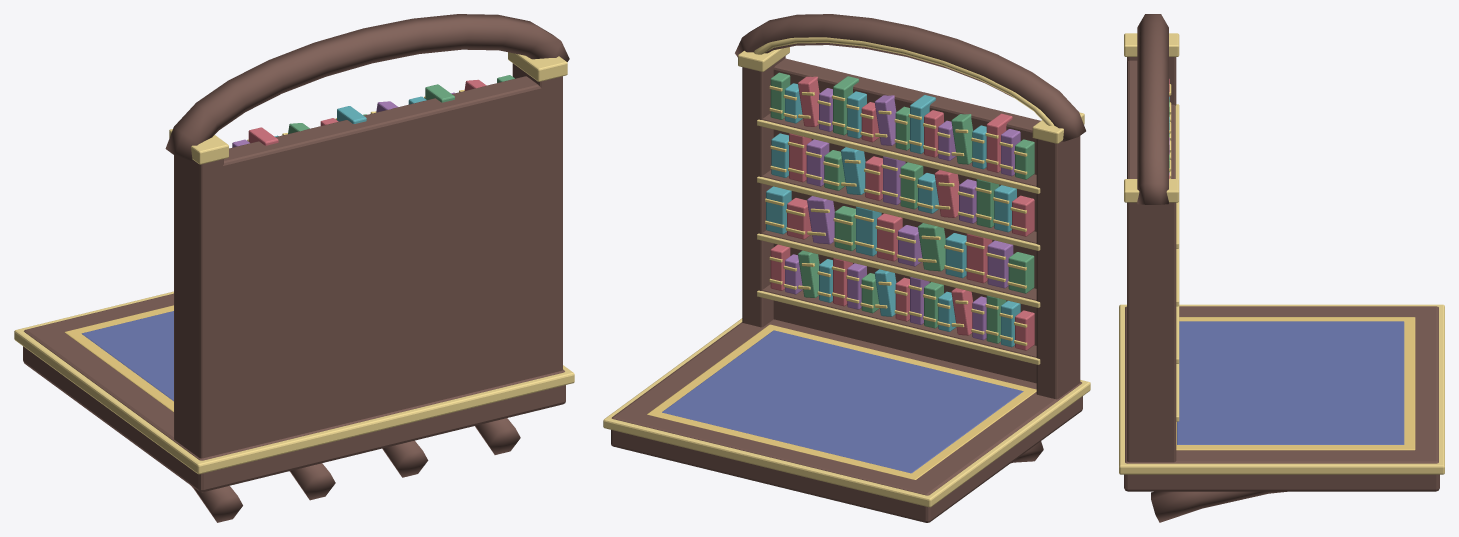
The model's file is floating_bookshelf.glb.
3 renders of one model, left to right at view 1: azimuth 30°, elevation 25°; view 2: azimuth 150°, elevation 25°; view 3: azimuth 270°, elevation 25°, orthographic. The views are drawn at different scales.
Visible parts, largest first — view 1: BookcaseArchCrown, BookcaseArchTrim, Carpet, CarpetBorder, Book_0_0, Book_0_10; view 2: BookcaseArchCrown, Carpet, BookcaseArchTrim, Book_0_0, Book_0_10, Book_0_1, Book_0_11, BookBand_0_0_-0.14, CarpetBorder; view 3: BookcaseArchCrown, Carpet, BookcaseArchTrim, CarpetBorder.
Part boxes in pixels (box(x1,y1,x2,y2)): BookcaseArchCrown: box(23, 14, 569, 522); BookcaseArchTrim: box(14, 52, 574, 474); Carpet: box(81, 311, 173, 401); CarpetBorder: box(64, 305, 173, 412); Book_0_0: box(248, 79, 486, 145); Book_0_10: box(288, 75, 514, 133); BookcaseArchCrown: box(611, 14, 1085, 522); Carpet: box(662, 330, 1023, 473); BookcaseArchTrim: box(603, 37, 1090, 507); Book_0_0: box(770, 76, 1034, 350); Book_0_10: box(770, 72, 1034, 343); Book_0_1: box(766, 83, 1020, 347); Book_0_11: box(785, 88, 1020, 340); BookBand_0_0_-0.14: box(765, 85, 1027, 345); CarpetBorder: box(647, 324, 1036, 479); BookcaseArchCrown: box(1124, 14, 1439, 522); Carpet: box(1177, 321, 1404, 444); BookcaseArchTrim: box(1119, 33, 1444, 474); CarpetBorder: box(1176, 317, 1415, 450).
Size of the model in its own units: 5.55 by 6.15 by 4.5.
